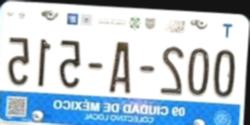License_Plate: (0, 7, 247, 125)
